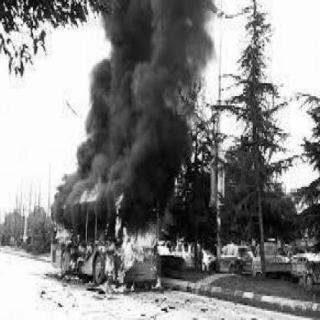Smoke: (80, 1, 177, 203)
